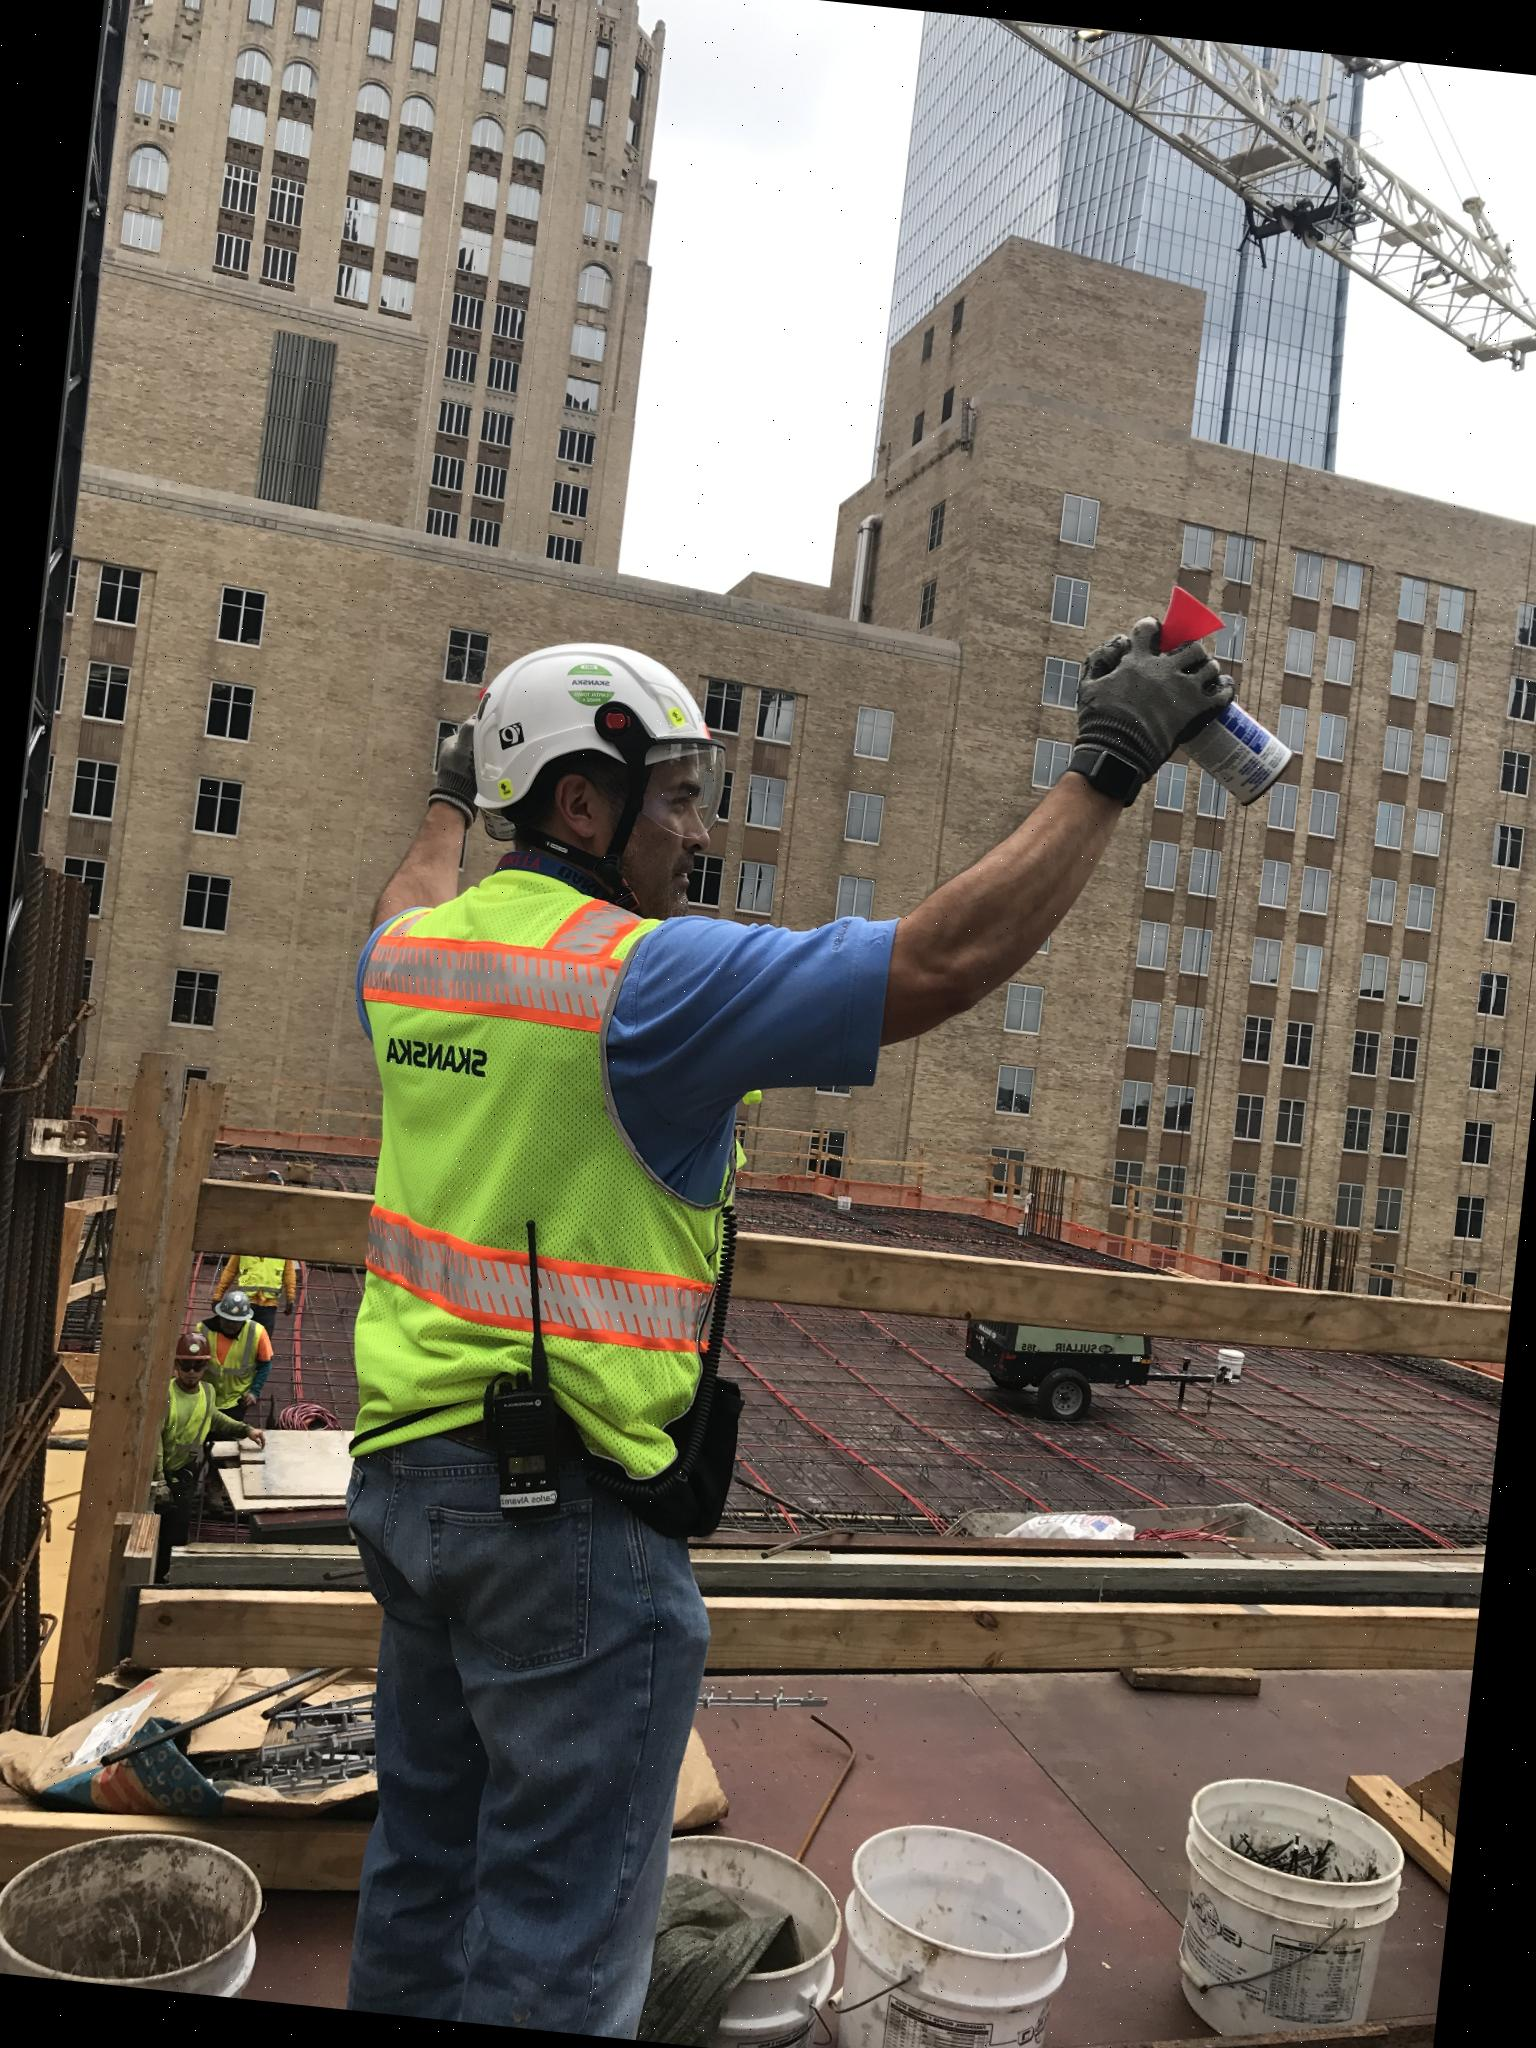helmet: (468, 621, 734, 856), (1155, 589, 1202, 651)
wear: (342, 893, 747, 1505)
